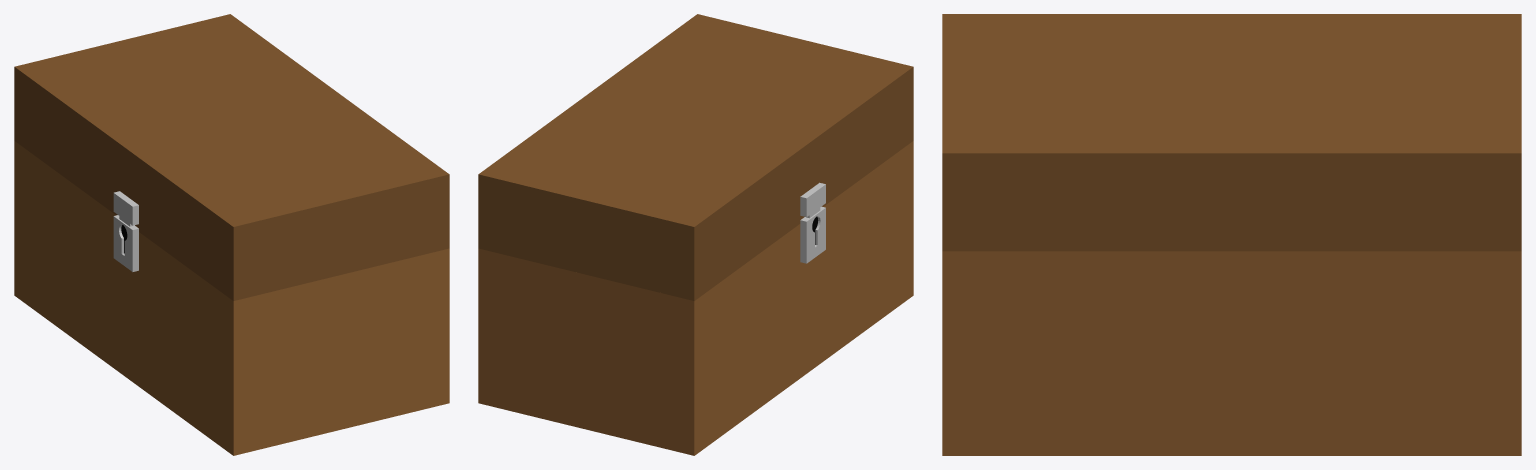
Rendered from bau.FBX.
The picture shows the model from 3 angles, left to right: view 1: azimuth 30°, elevation 25°; view 2: azimuth 150°, elevation 25°; view 3: azimuth 270°, elevation 25°; orthographic projection. The views are drawn at different scales.
Visible parts, largest first — view 1: bau tampa, bau; view 2: bau tampa, bau; view 3: bau tampa, bau.
Part boxes in pixels (x1,y1,x2,y2): bau tampa: (14, 14, 449, 300); bau: (14, 141, 449, 455); bau tampa: (478, 14, 913, 300); bau: (478, 141, 913, 455); bau tampa: (942, 14, 1521, 251); bau: (942, 251, 1521, 455).
Bounding box in the file's own units: 19.92 × 19.57 × 33.95.
Materials: 1 (1 with a texture image).
